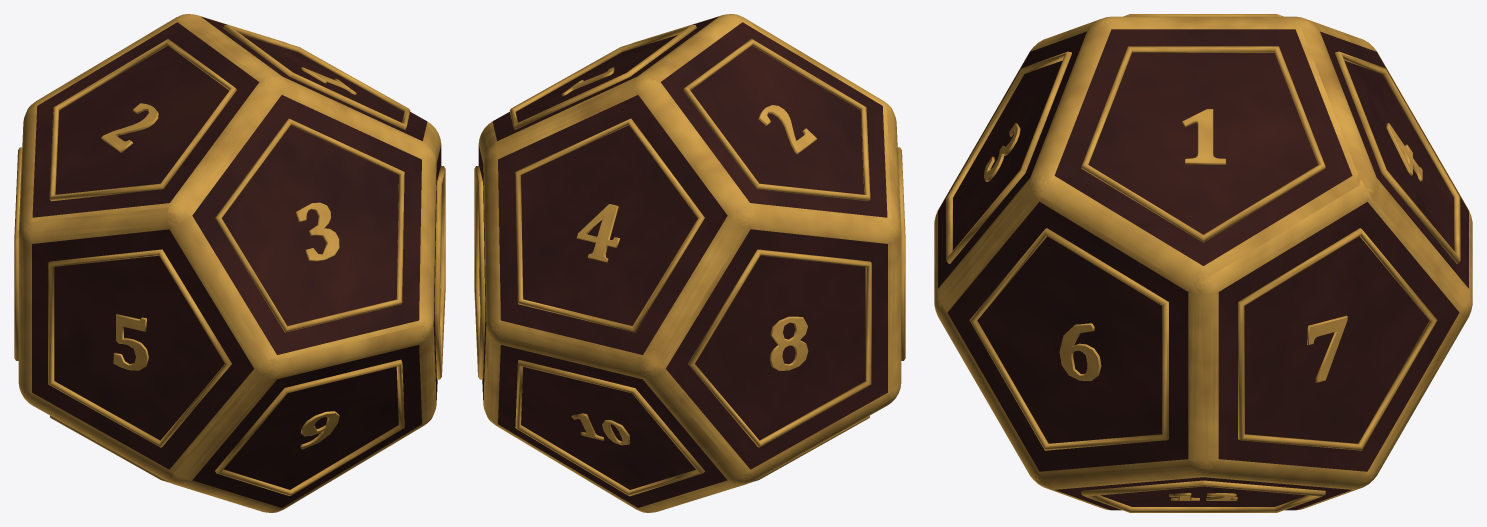
The picture shows the model from 3 angles, left to right: view 1: azimuth 30°, elevation 25°; view 2: azimuth 150°, elevation 25°; view 3: azimuth 270°, elevation 25°; orthographic projection. The views are drawn at different scales.
Visible parts, largest first — view 1: D12; view 2: D12; view 3: D12.
Boxes of the visible parts, x1,y1,x2,y2 form: D12: (14,14,445,512); D12: (474,14,905,512); D12: (934,14,1472,512).
Size of the model in its own units: 0.8793 by 0.8793 by 0.8793.
2 materials, 2 textured.
